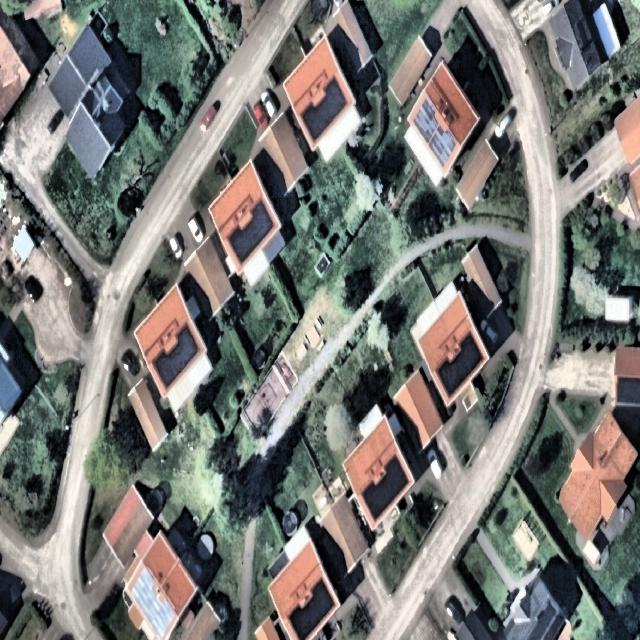roof_pv: (424, 122, 459, 172), (141, 591, 176, 636), (322, 72, 348, 130), (301, 97, 331, 145), (458, 328, 484, 383), (383, 454, 409, 508), (173, 321, 200, 373), (251, 192, 275, 250), (359, 478, 388, 524), (225, 221, 254, 267), (410, 96, 438, 143), (152, 347, 182, 390), (435, 357, 464, 400), (130, 566, 154, 607)
